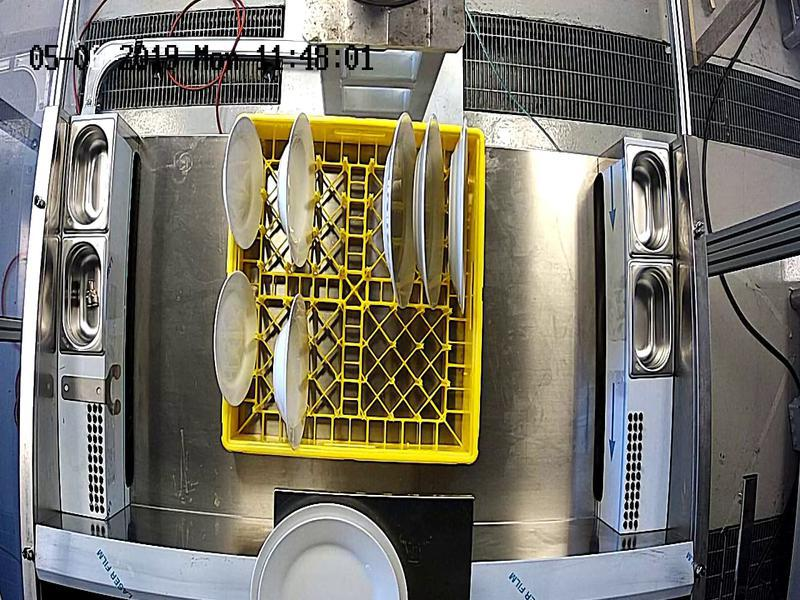Dish: (410, 115, 444, 313), (382, 111, 413, 310), (211, 273, 255, 405), (271, 296, 307, 453), (221, 113, 261, 251), (278, 111, 311, 270), (449, 118, 465, 312)
